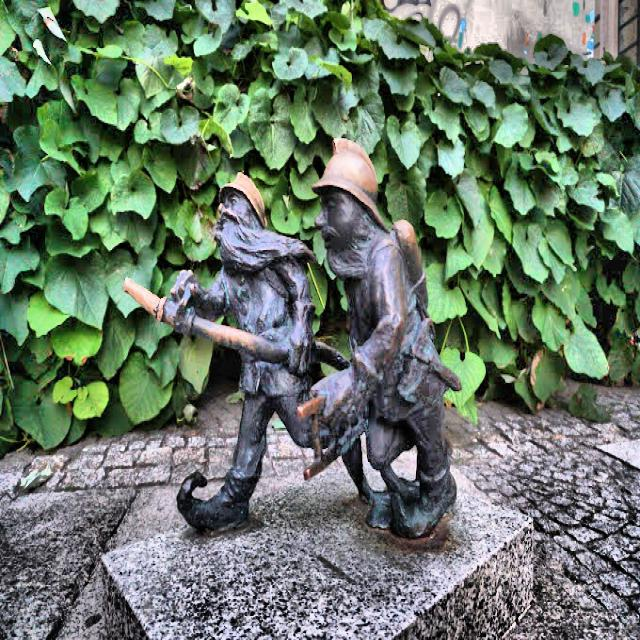Pozarki: (121, 135, 460, 537)
